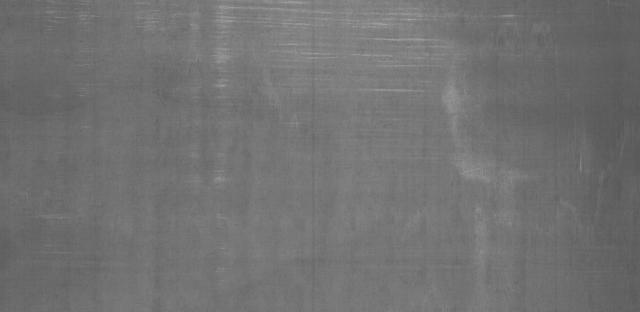waist_folding: (105, 0, 536, 208)
